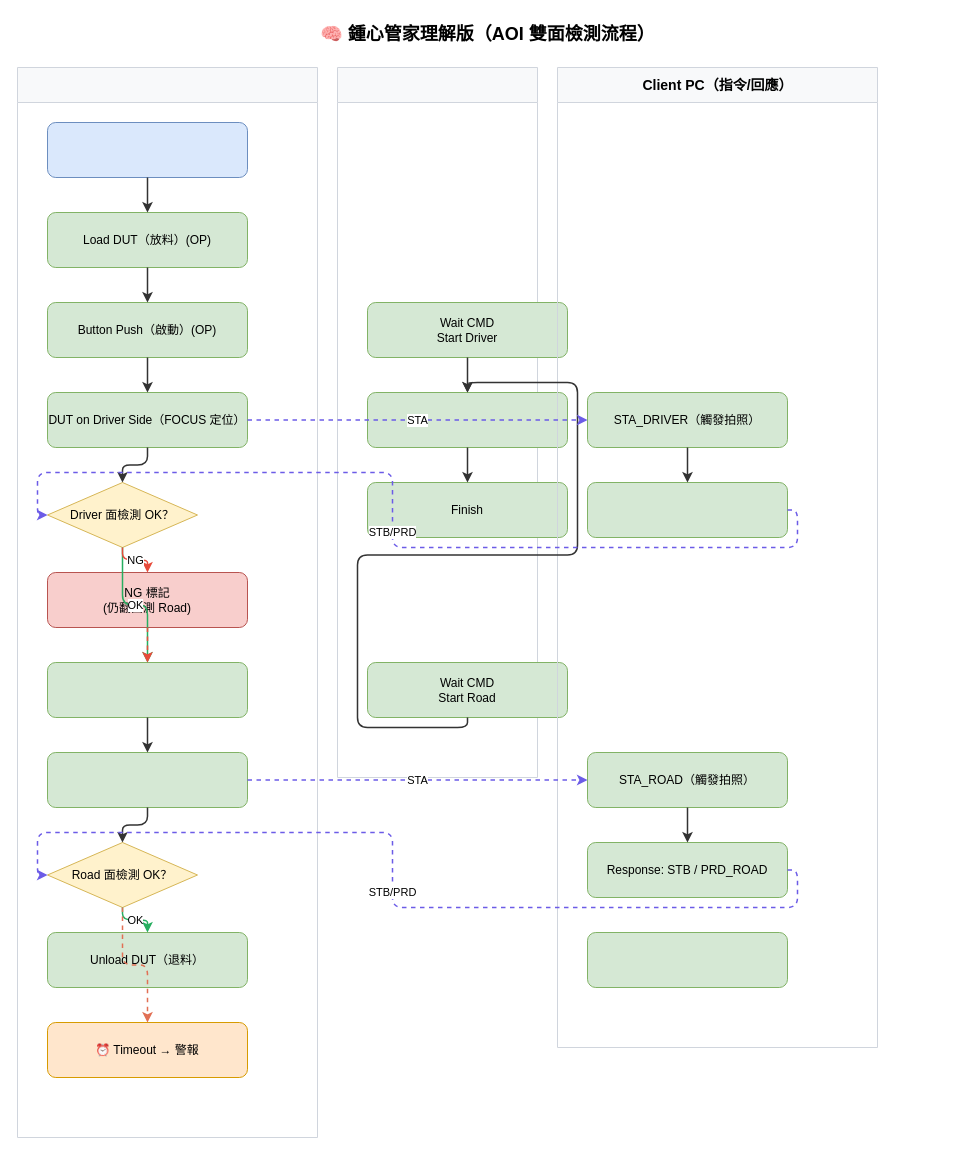
Image size: 975x1155. Some labels were removed from this diagram. The box of each missing label's shape, as (x1, y1, x2, y2) in pixels:
Command: (336, 66, 538, 778)
DUT on Road Side（FOCUS 定位）: (46, 752, 248, 808)
FLIP DUT（翻面）: (46, 662, 248, 718)
FOCUS Driver → OK/NG: (366, 392, 568, 448)
HOME 指令 → 回原點: (586, 932, 788, 988)
HOME（待機）: (46, 122, 248, 178)
PLC 機台流程: (16, 66, 318, 1138)
Response: STB / PRD_DRIVER: (586, 482, 788, 538)
